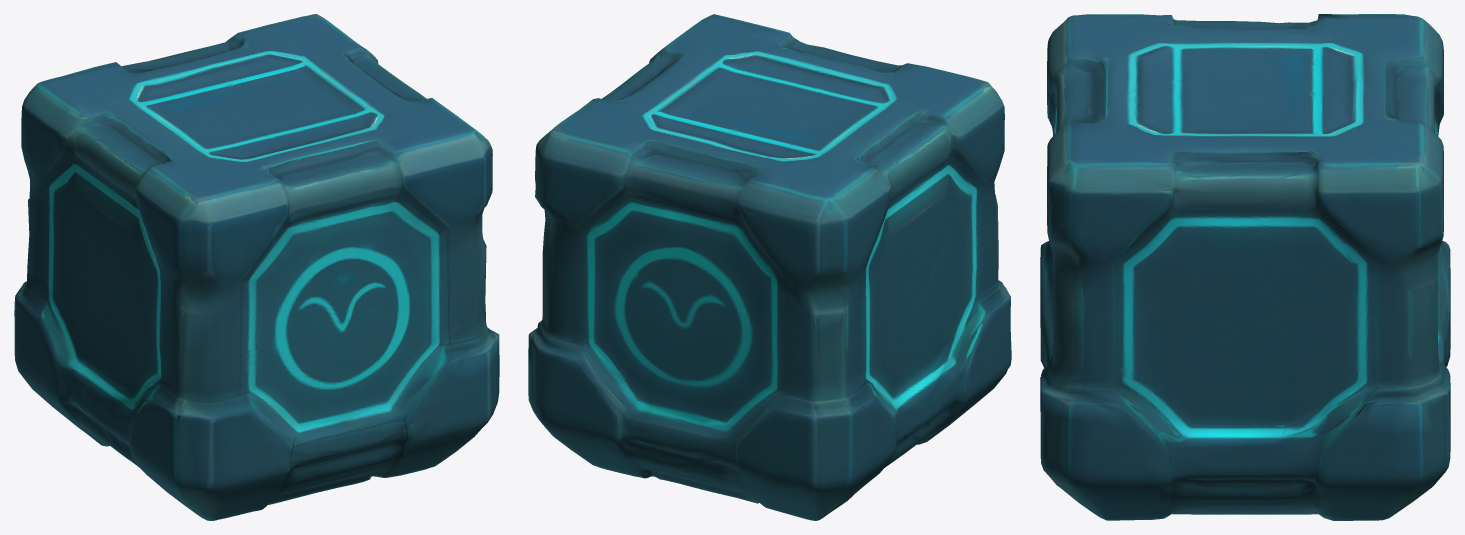
3 renders of one model, left to right at view 1: azimuth 30°, elevation 25°; view 2: azimuth 150°, elevation 25°; view 3: azimuth 270°, elevation 25°, orthographic. The views are drawn at different scales.
Size of the model in its own units: 1.96 by 1.97 by 1.96.
1 material, 1 textured.
